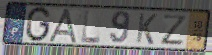9: (109, 9, 131, 46)
A: (46, 8, 80, 44)
G: (24, 5, 53, 43)
K: (135, 12, 159, 47)
L: (80, 9, 102, 45)
Z: (161, 14, 189, 46)
